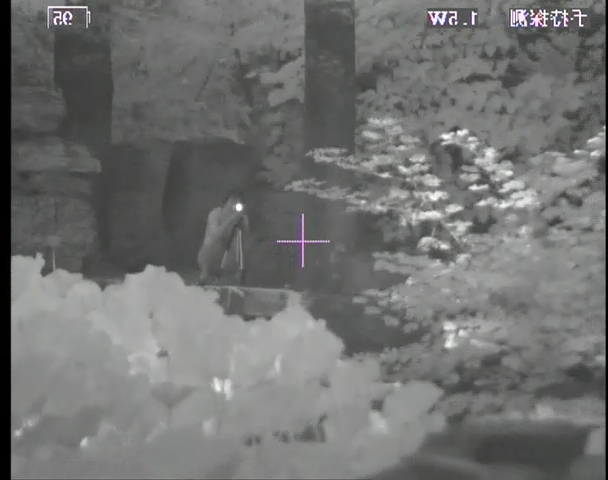my: (234, 202, 246, 213)
